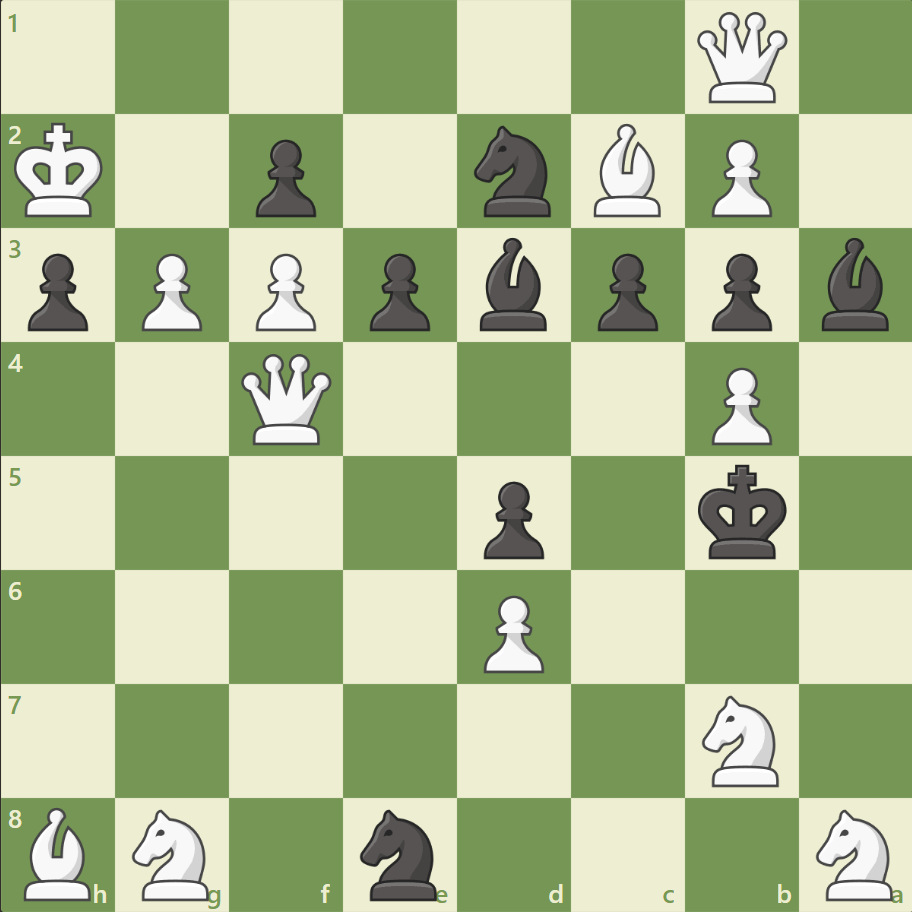B: (17, 801, 101, 904), (585, 120, 669, 222)
K: (11, 117, 111, 225)
N: (124, 802, 222, 904), (692, 688, 789, 791), (806, 802, 903, 904)
P: (474, 586, 549, 677), (701, 359, 776, 450), (247, 246, 322, 337), (133, 246, 208, 337), (701, 132, 776, 223)
Q: (237, 349, 336, 449), (691, 9, 790, 108)
b: (812, 233, 896, 336), (471, 233, 555, 336)
k: (692, 458, 792, 566)
n: (351, 802, 449, 904), (465, 121, 562, 223)
p: (474, 473, 549, 564), (701, 246, 776, 337), (20, 246, 95, 337), (247, 132, 322, 223), (588, 246, 662, 337), (361, 246, 435, 337)
